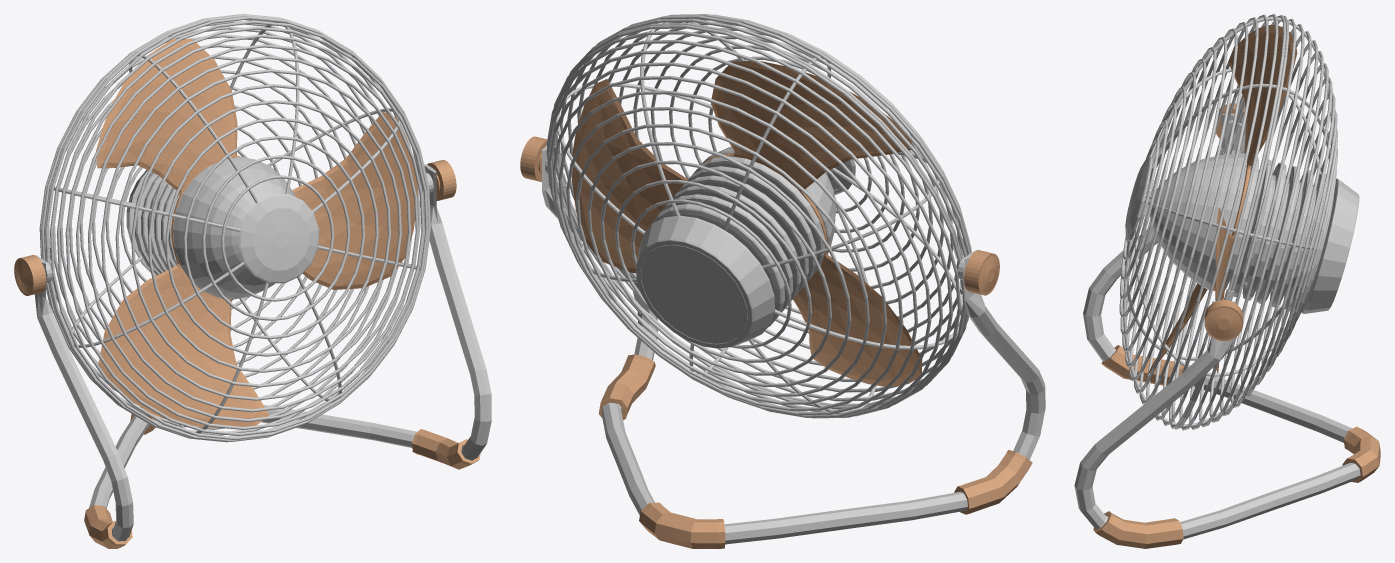
Rendered from sweethome3d-blendswap-cc-0-rigged-fan-99.glb.
3 views of the same model, side by side, from view 1: azimuth 30°, elevation 25°; view 2: azimuth 150°, elevation 25°; view 3: azimuth 270°, elevation 25° (orthographic). The views are drawn at different scales.
Parts seen in each view (by area): view 1: 0grid2_Mesh.004, 0blades_Circle.002, 0stand1_Mesh.002, 0part2_Circle.001, 0part1_Mesh, 0grid1_Mesh.005, 0body_Circle.003, 0stand2_Mesh.001, 0adjuster_Cylinder; view 2: 0grid2_Mesh.004, 0blades_Circle.002, 0body_Circle.003, 0stand1_Mesh.002, 0stand2_Mesh.001, 0grid1_Mesh.005, 0adjuster_Cylinder, 0part2_Circle.001; view 3: 0grid2_Mesh.004, 0stand1_Mesh.002, 0body_Circle.003, 0part2_Circle.001, 0blades_Circle.002, 0stand2_Mesh.001, 0grid1_Mesh.005, 0adjuster_Cylinder, 0part1_Mesh.
Boxes of the visible parts, x1,y1,x2,y2 form: 0grid2_Mesh.004: (39,14,430,442); 0blades_Circle.002: (96,38,417,427); 0stand1_Mesh.002: (34,164,491,541); 0part2_Circle.001: (173,157,295,299); 0part1_Mesh: (239,194,319,283); 0grid1_Mesh.005: (53,21,420,435); 0body_Circle.003: (126,155,248,276); 0stand2_Mesh.001: (84,407,480,548); 0adjuster_Cylinder: (14,160,456,295); 0grid2_Mesh.004: (546,14,971,418); 0blades_Circle.002: (572,60,922,386); 0body_Circle.003: (636,156,825,348); 0stand1_Mesh.002: (541,146,1045,544); 0stand2_Mesh.001: (599,354,1032,548); 0grid1_Mesh.005: (555,22,962,414); 0adjuster_Cylinder: (520,136,999,295); 0part2_Circle.001: (700,146,835,253); 0grid2_Mesh.004: (1119,14,1337,430); 0stand1_Mesh.002: (1074,113,1360,539); 0body_Circle.003: (1225,158,1359,313); 0part2_Circle.001: (1150,153,1246,289); 0blades_Circle.002: (1148,25,1297,374); 0stand2_Mesh.001: (1093,345,1380,548); 0grid1_Mesh.005: (1123,17,1334,427); 0adjuster_Cylinder: (1204,103,1245,340); 0part1_Mesh: (1125,155,1152,242).
Size of the model in its own units: 32.69 by 32.17 by 20.65.
